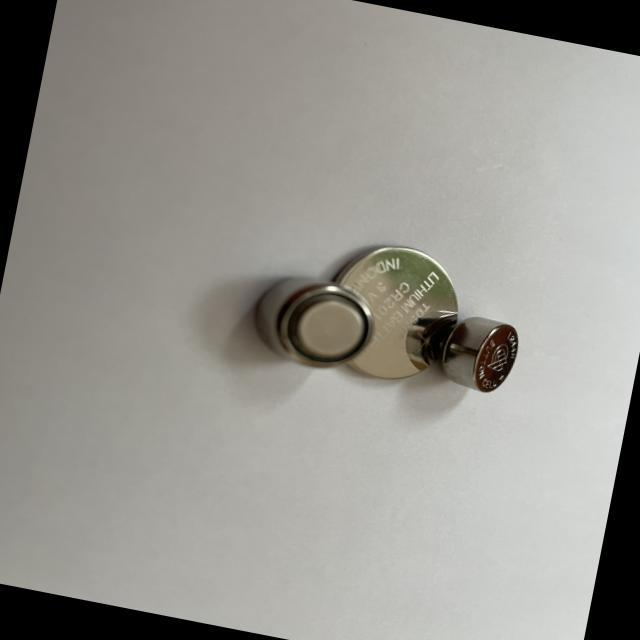COIN: (315, 235, 470, 392), (247, 268, 380, 379), (436, 313, 520, 397)
